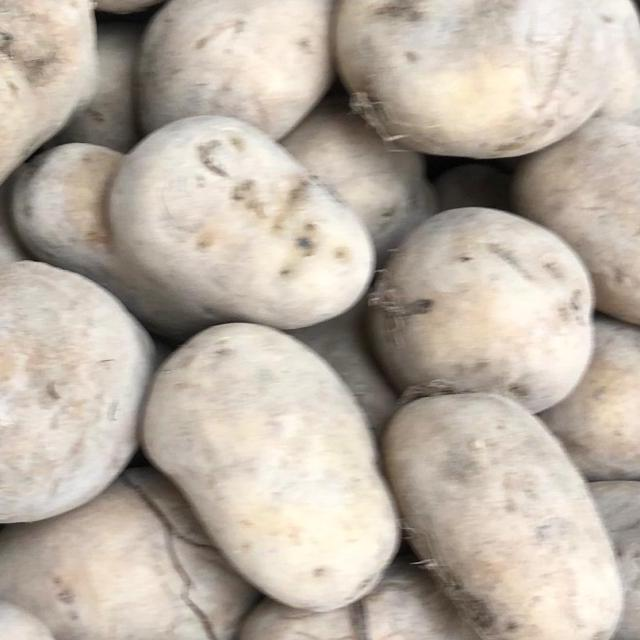potato: (120, 300, 402, 602), (375, 362, 630, 640), (100, 112, 375, 335), (325, 0, 620, 170), (0, 245, 165, 537)
